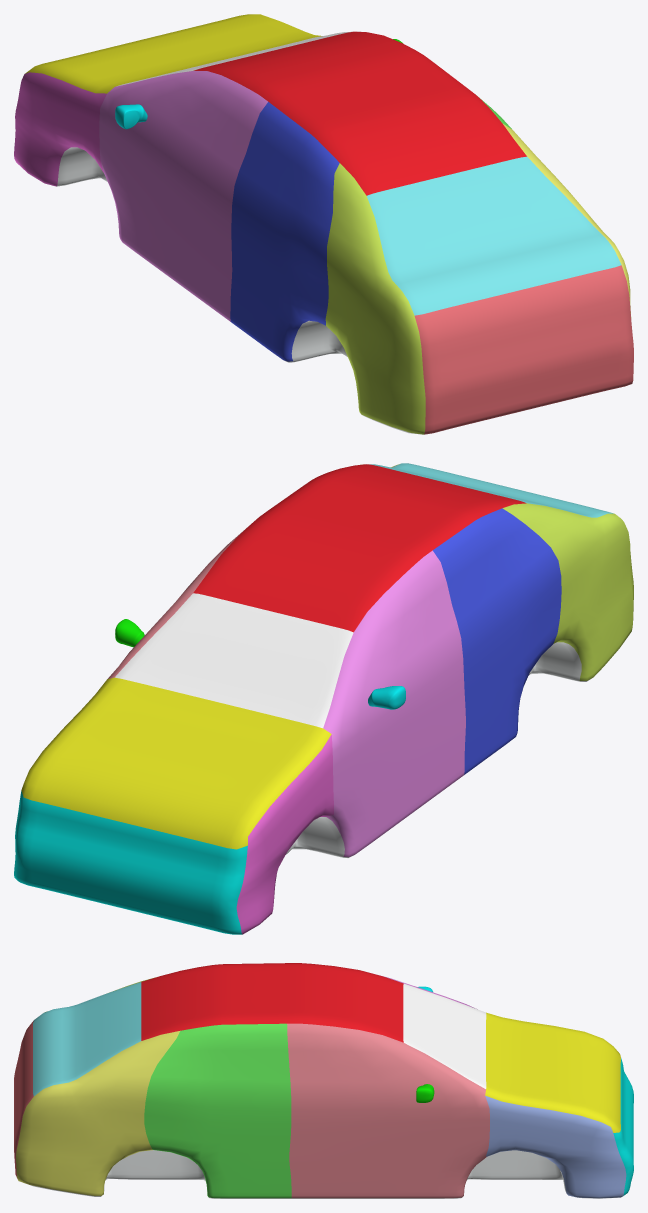
File: carMesh.glb
3 renders of one model, top to bottom at view 1: azimuth 30°, elevation 25°; view 2: azimuth 150°, elevation 25°; view 3: azimuth 270°, elevation 25°, orthographic. The views are drawn at different scales.
Visible parts, largest first — view 1: Cube, Cube.001; view 2: Cube, Cube.001; view 3: Cube, Cube.001.
Boxes of the visible parts, box(x1,y1,x2,y2) form: Cube: box(14, 14, 633, 434); Cube.001: box(115, 39, 402, 129); Cube: box(14, 463, 633, 934); Cube.001: box(115, 619, 405, 709); Cube: box(14, 963, 633, 1198); Cube.001: box(416, 986, 434, 1102).
Bounding box in the file's own units: 1.59 × 1.19 × 3.99.
